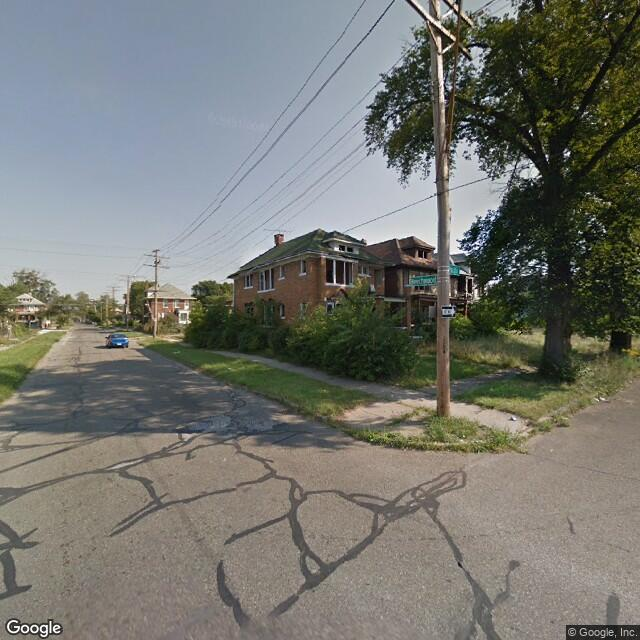litter: (592, 394, 603, 404), (599, 392, 607, 402), (174, 348, 179, 352), (512, 415, 516, 418)
